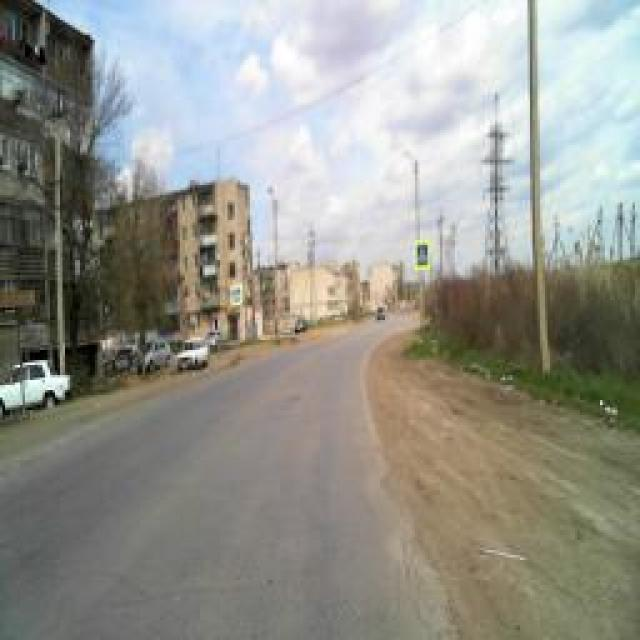sign: (415, 240, 430, 270), (228, 284, 244, 306)
